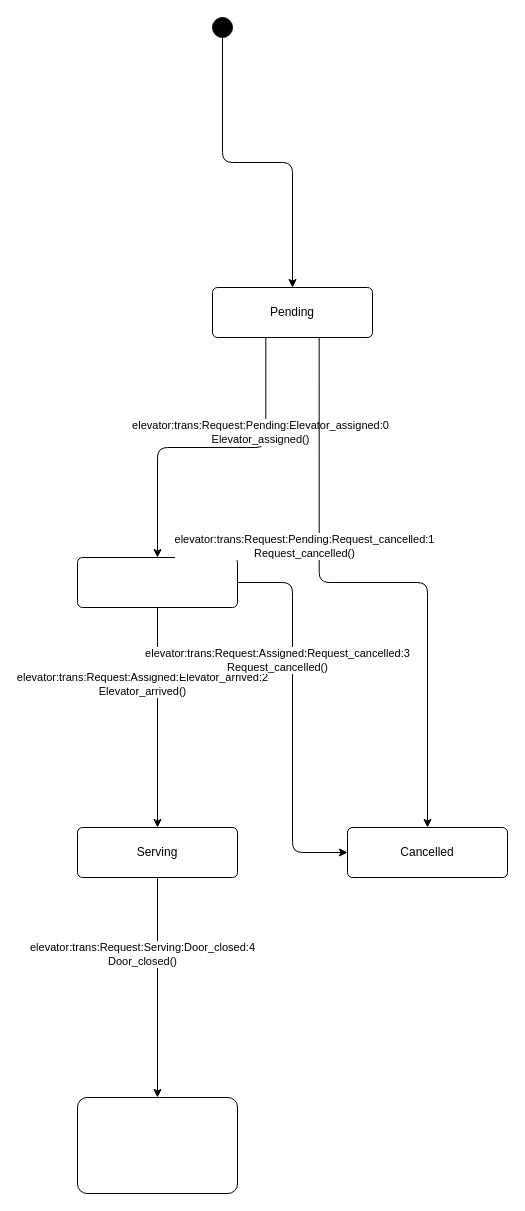
This 525x1211 diagram has some shape labels left out. The shapes that lost their labels are listed below. From the top down, each one's centre as x and y in pixels, then its label:
the point at 157,582: Assigned
the point at 157,1145: Complete ────────────────── entry / generate Service_complete to r2_elevator_id;
